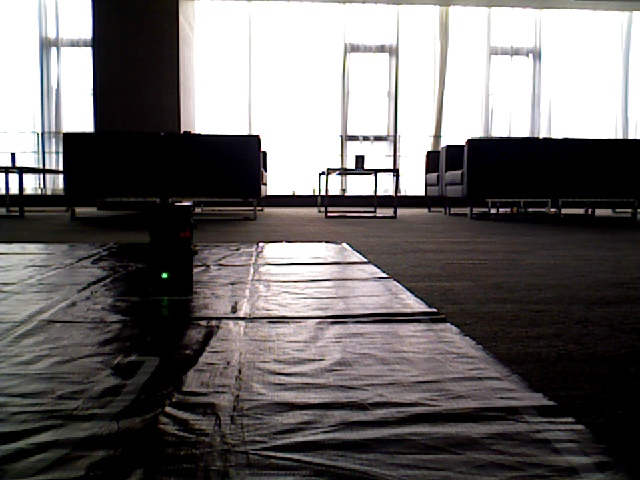green: (150, 213, 182, 302)
